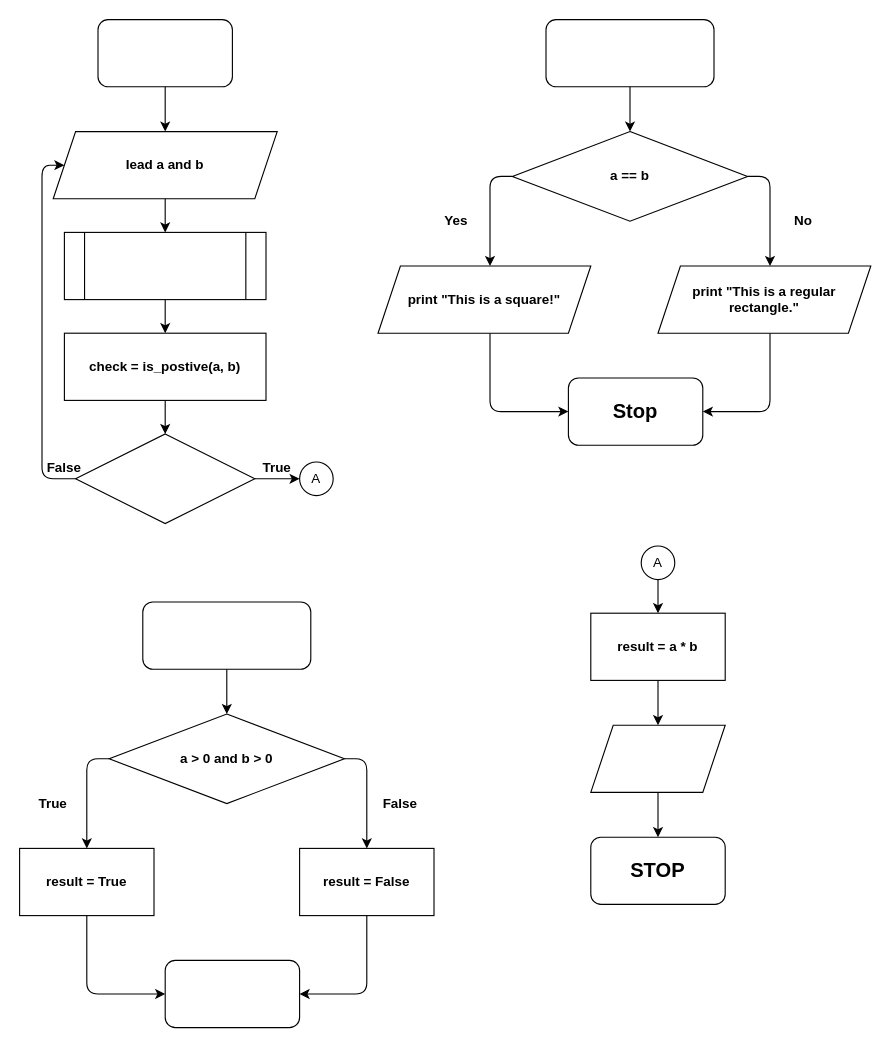
Some shapes in this 890 by 1047 pixel diagram are drawn without their labels. The centre of each missing label's shape, as x and y in pixels:
check: the point at 164,478
check_square a, b: the point at 629,52
check_square(a, b): the point at 164,265
is_positive a, b: the point at 226,635
print result: the point at 657,758
return result: the point at 232,993
START: the point at 164,52
